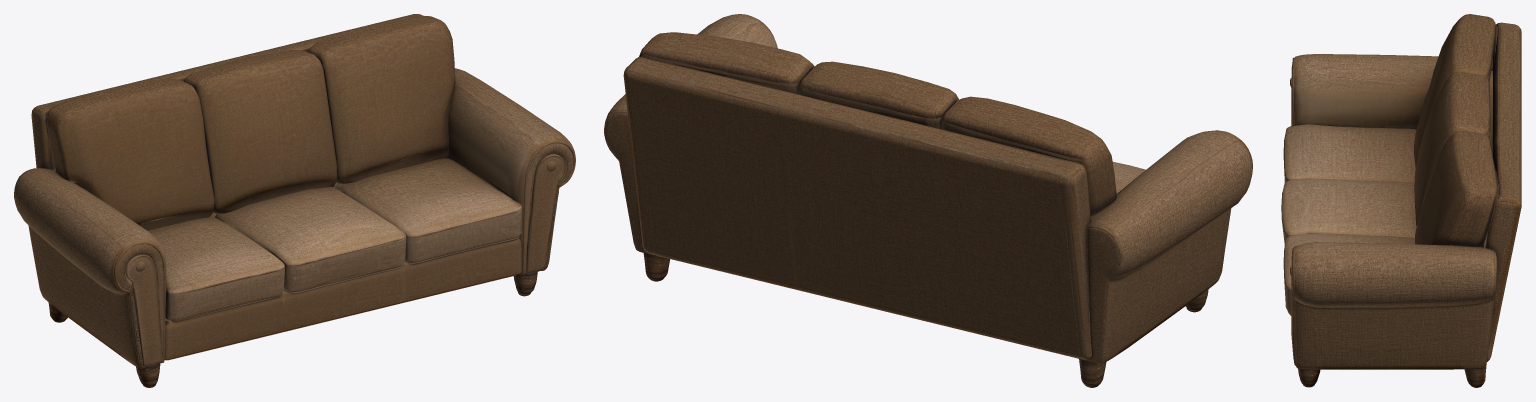
Rendered from tripo_convert_0f13964f-da1b-446d-8277-68ec5988e590.fbx.
3 views of the same model, side by side, from view 1: azimuth 30°, elevation 25°; view 2: azimuth 150°, elevation 25°; view 3: azimuth 270°, elevation 25° (orthographic). The views are drawn at different scales.
Parts seen in each view (by area): view 1: tripo_node_0f13964f; view 2: tripo_node_0f13964f; view 3: tripo_node_0f13964f.
Boxes of the visible parts, x1,y1,x2,y2 form: tripo_node_0f13964f: (14,14,575,387); tripo_node_0f13964f: (604,14,1252,387); tripo_node_0f13964f: (1281,14,1521,387).
Size of the model in its own units: 0.9995 by 0.4438 by 0.4683.
Materials: 1 (1 with a texture image).
